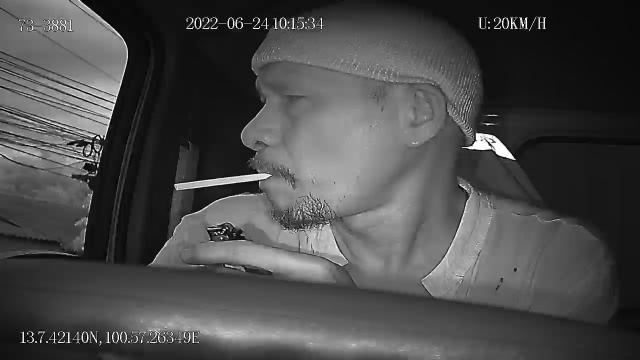Cigarette: (170, 169, 274, 191)
